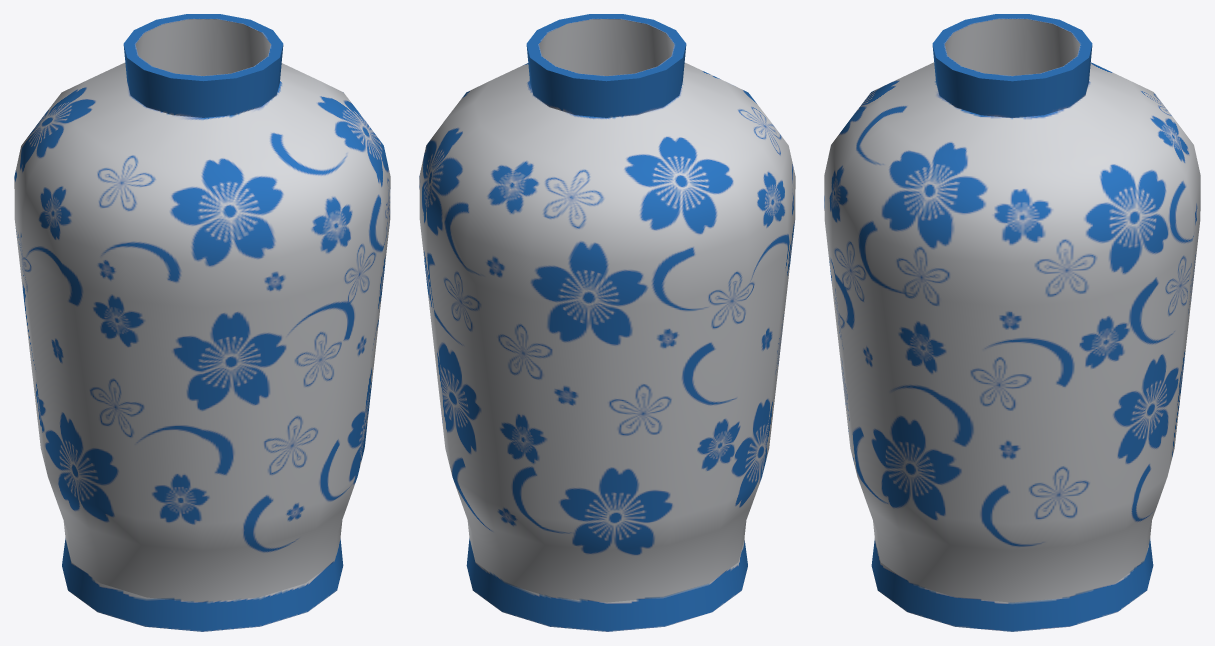
The model's file is SmallVase.fbx.
The picture shows the model from 3 angles, left to right: view 1: azimuth 30°, elevation 25°; view 2: azimuth 150°, elevation 25°; view 3: azimuth 270°, elevation 25°; orthographic projection.
Parts seen in each view (by area): view 1: Small_Vase; view 2: Small_Vase; view 3: Small_Vase.
Boxes of the visible parts, x1,y1,x2,y2 form: Small_Vase: (14, 14, 390, 631); Small_Vase: (419, 14, 795, 631); Small_Vase: (824, 14, 1200, 631).
Size of the model in its own units: 0.0198 by 0.0306 by 0.0199.
Materials: 1 (1 with a texture image).
